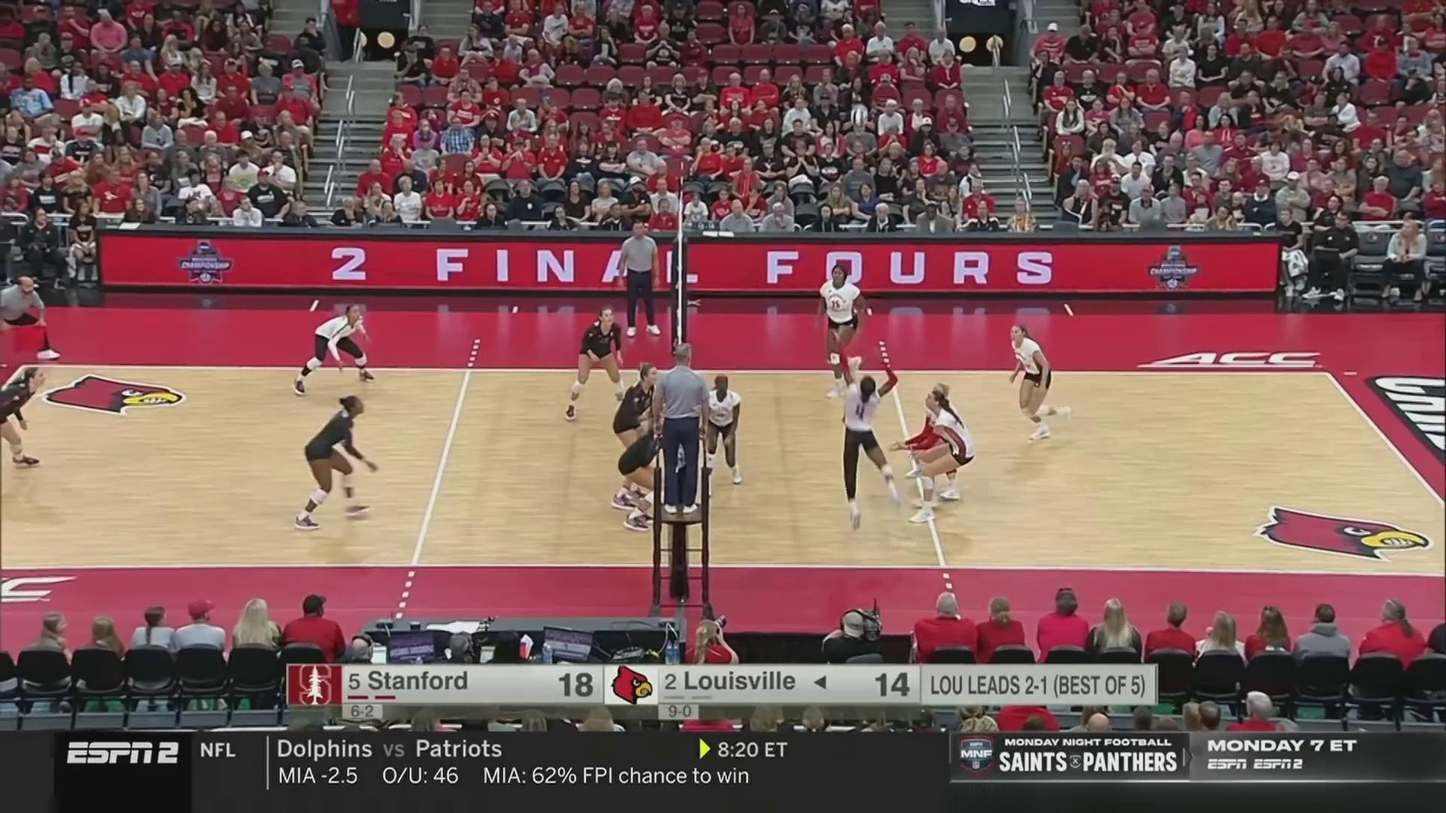player: (839, 347, 903, 531), (293, 398, 376, 529), (911, 391, 977, 523), (1005, 324, 1073, 442), (615, 416, 681, 531), (294, 303, 377, 391), (900, 381, 962, 496), (566, 310, 628, 419), (816, 264, 866, 391), (615, 364, 661, 486), (702, 376, 744, 494), (0, 368, 44, 469)
refree: (656, 344, 709, 517), (0, 273, 62, 363), (618, 221, 661, 338)
